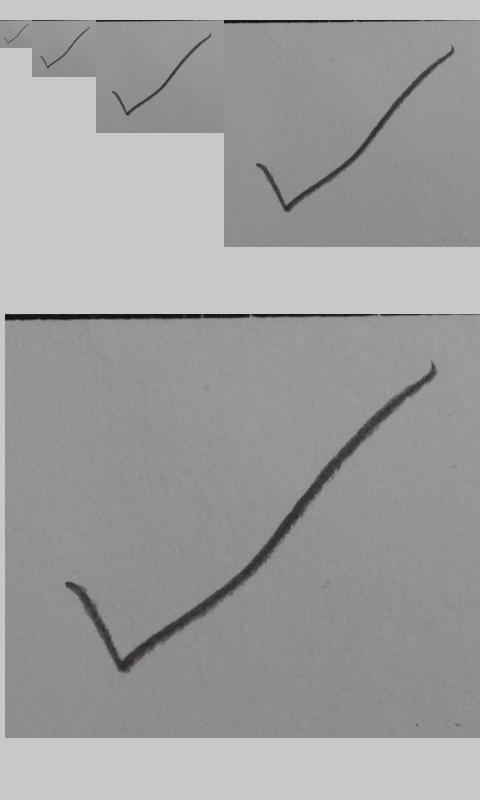check_box: (64, 363, 439, 679), (258, 47, 454, 213), (111, 32, 212, 117), (40, 27, 90, 69), (4, 24, 29, 44)
